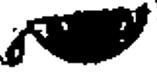Basket: (4, 3, 151, 66)
